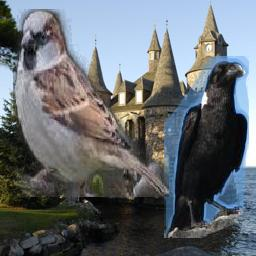Crow: (165, 56, 250, 238)
Sparrow: (13, 9, 169, 197)
